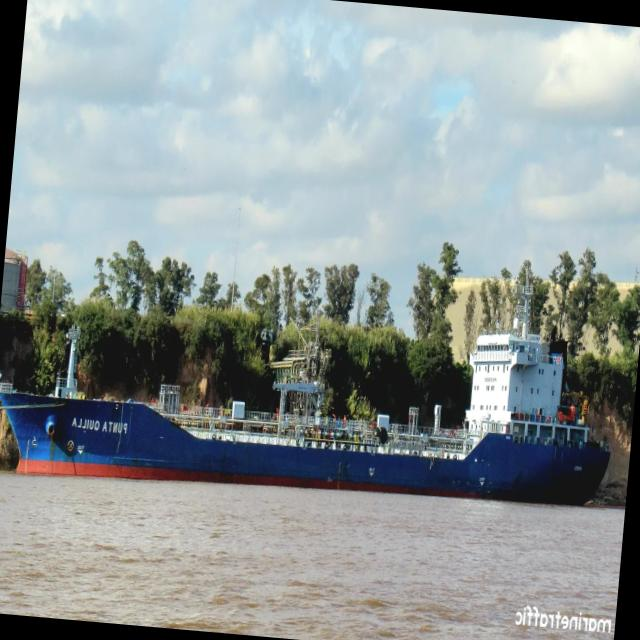Tanker: (0, 285, 608, 504)
